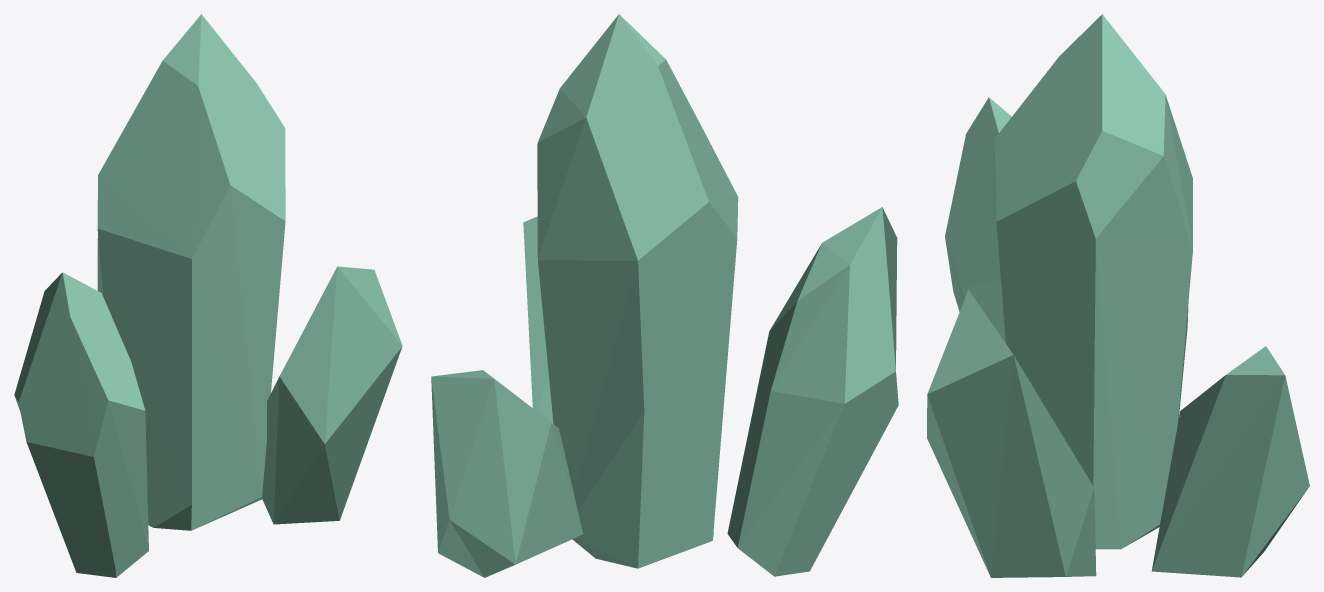
File: Cristales.FBX
3 renders of one model, left to right at view 1: azimuth 30°, elevation 25°; view 2: azimuth 150°, elevation 25°; view 3: azimuth 270°, elevation 25°, orthographic. The views are drawn at different scales.
Bounding box in the file's own units: 101 × 139 × 89.81.
1 material, 1 textured.
